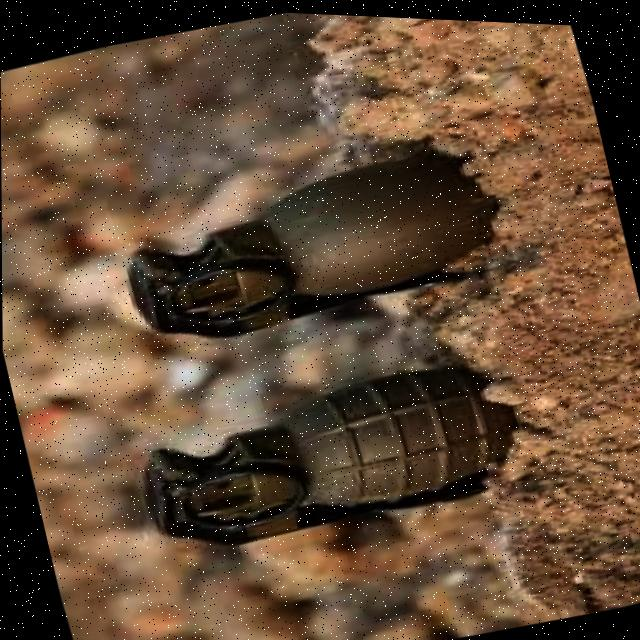grenade: (93, 115, 515, 375), (115, 328, 538, 583)
